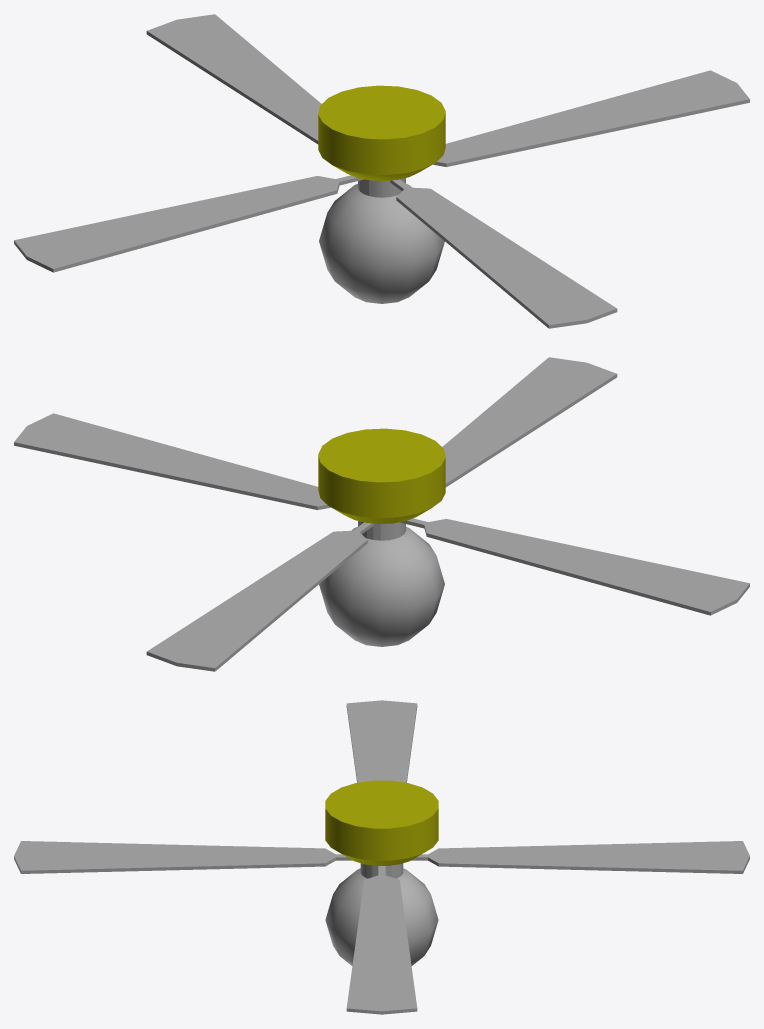
File: CeilingFan.glb
3 views of the same model, one above another, from view 1: azimuth 30°, elevation 25°; view 2: azimuth 150°, elevation 25°; view 3: azimuth 270°, elevation 25° (orthographic). The views are drawn at different scales.
Parts seen in each view (by area): view 1: shaft, base, globe; view 2: shaft, base, globe; view 3: shaft, base, globe.
Boxes of the visible parts, box(x1,y1,x2,y2) form: shaft: box(14, 14, 749, 328); base: box(318, 85, 445, 180); globe: box(319, 183, 444, 303); shaft: box(14, 357, 749, 671); base: box(318, 428, 445, 523); globe: box(319, 526, 444, 646); shaft: box(14, 700, 749, 1014); base: box(325, 780, 438, 865); globe: box(325, 868, 438, 965).
Size of the model in its own units: 5.2 by 1.3 by 5.2.
